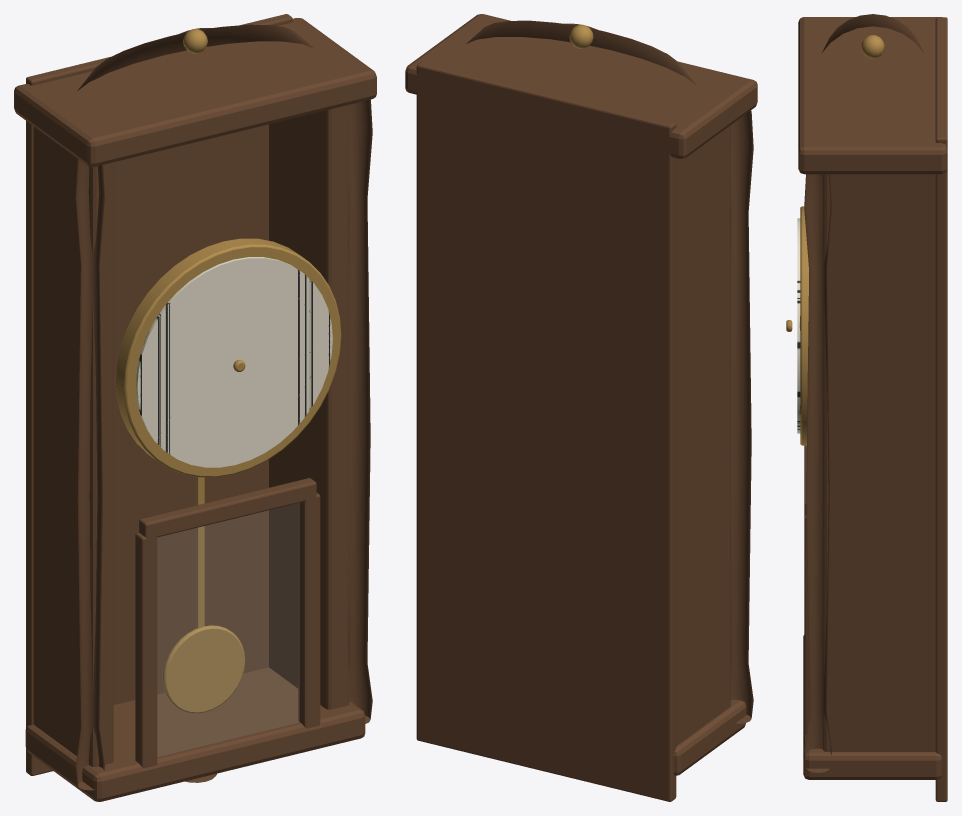
The model's file is DongHoQuaLac.glb.
3 views of the same model, side by side, from view 1: azimuth 30°, elevation 25°; view 2: azimuth 150°, elevation 25°; view 3: azimuth 270°, elevation 25° (orthographic). The views are drawn at different scales.
Parts seen in each view (by area): view 1: DongHoQuaLac, KinhCua, QuaLac; view 2: DongHoQuaLac; view 3: DongHoQuaLac.
Boxes of the visible parts, <box> form: DongHoQuaLac: <box>14,14,376,801</box>; KinhCua: <box>158,503,299,756</box>; QuaLac: <box>162,477,245,713</box>; DongHoQuaLac: <box>405,14,757,801</box>; DongHoQuaLac: <box>786,14,947,801</box>.
Bounding box in the file's own units: 0.324 × 0.787 × 0.162.
5 materials, 1 textured.
